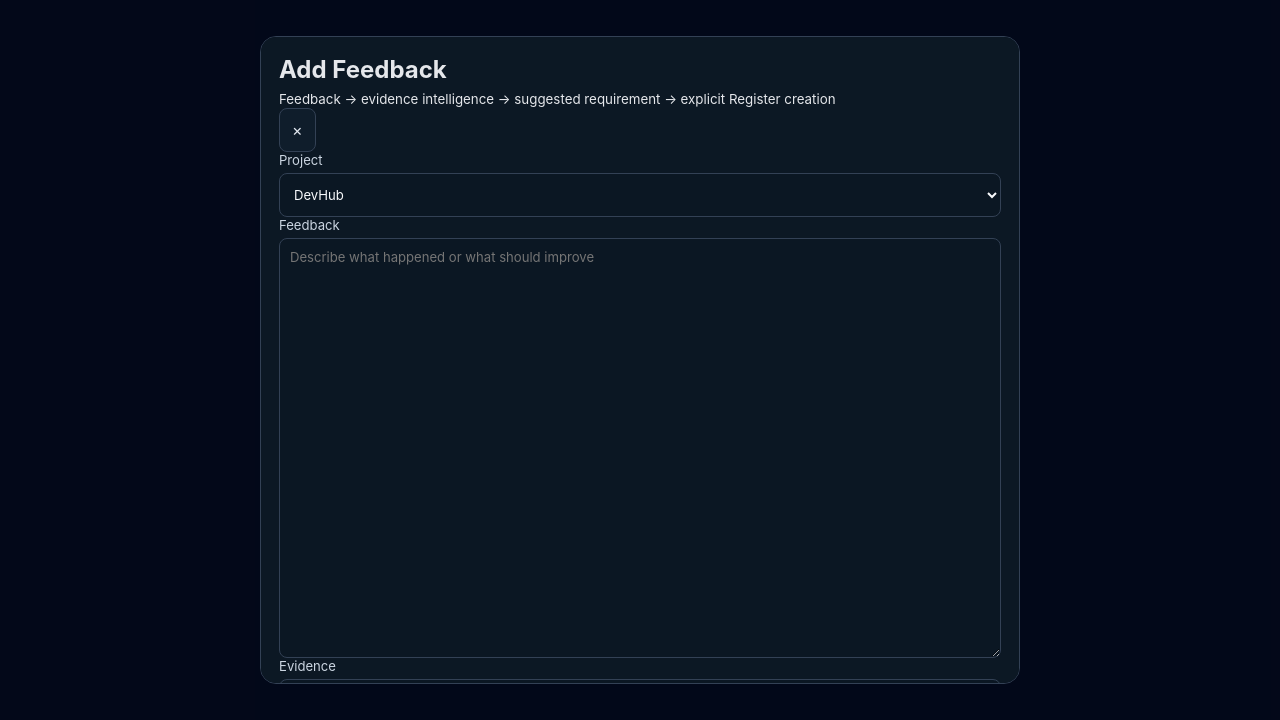
it: AssistedFeedbackModal › keeps feedback after an analysis failure
This screenshot has width=1280, height=720.
Type "Keep this feedback after failure" into the text box with placeholder "Describe what happened or what should improve" at (640, 448), box [279,238,1001,658]
(page scrolled)
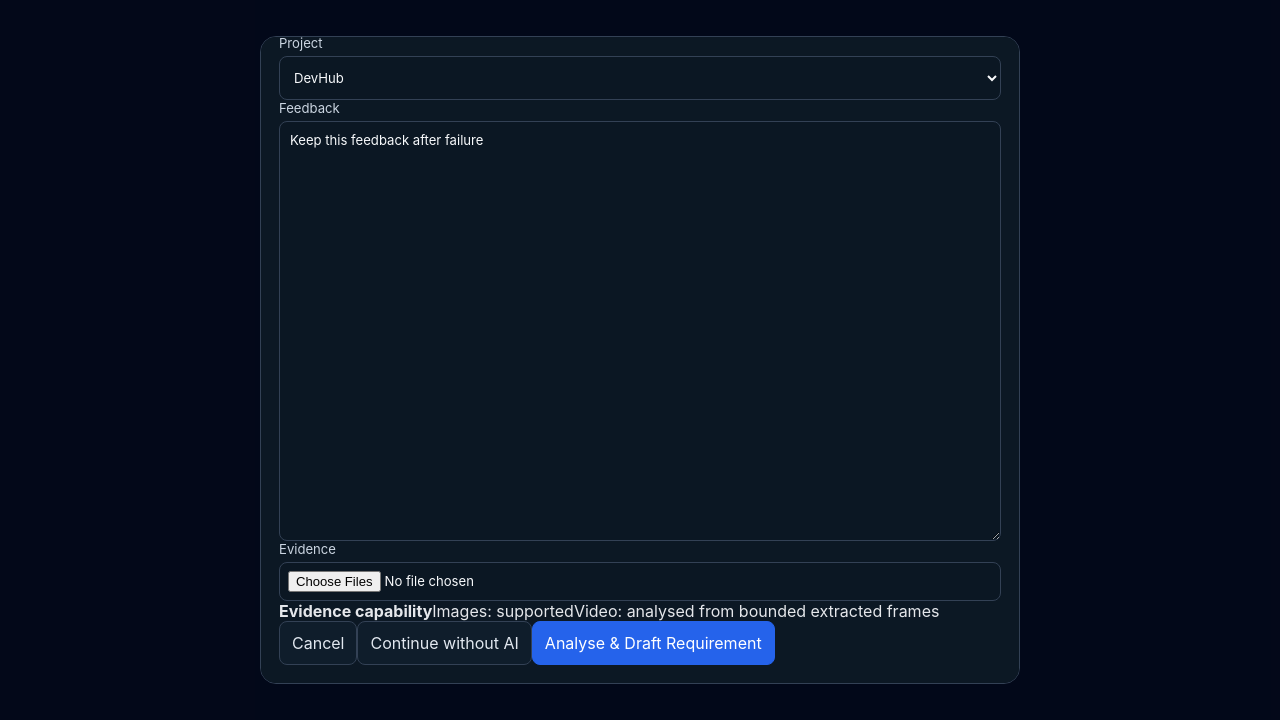
expect the button "Analyse & Draft Requirement" is enabled: met
Click the button "Analyse & Draft Requirement" at (653, 643), box [532,621,775,665]
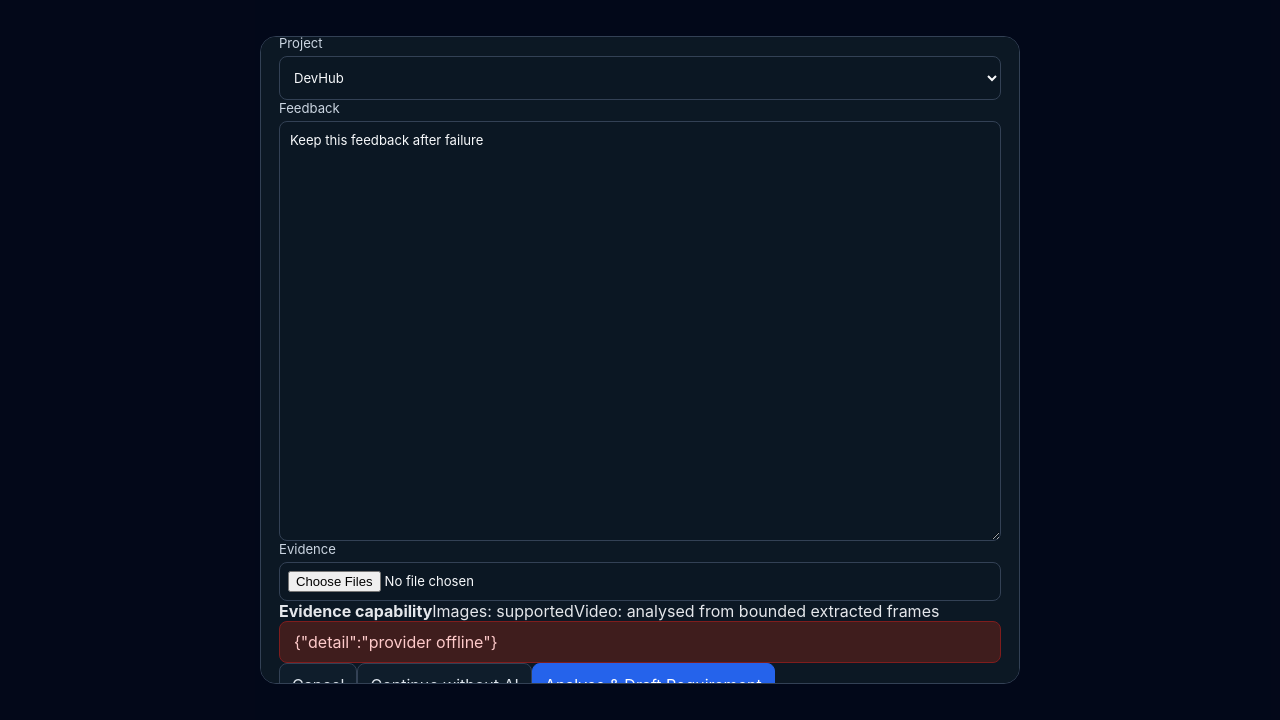
expect the text "{\"detail\":\"provider offline\"}" is shown: met, box [279,621,1001,663]
